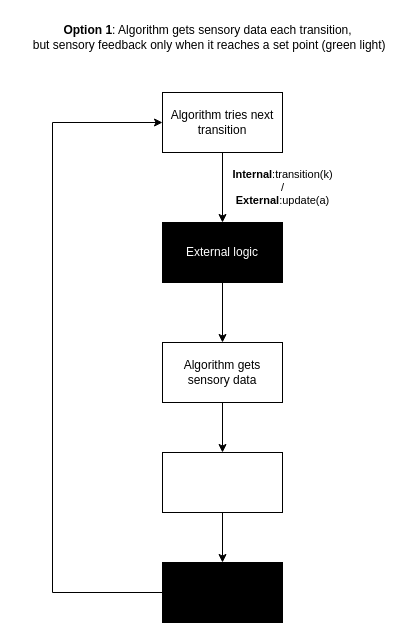
The diagram is 414 pixels wide and 640 high, and some of its shapes have lost their labels. The shapes that lost their labels are listed below. From the top down, each one's box as (x1, y1, x2, y2) in pixels, then its label:
(162, 452, 282, 512): Algorithm updates internal
(162, 562, 282, 622): Internal logic
